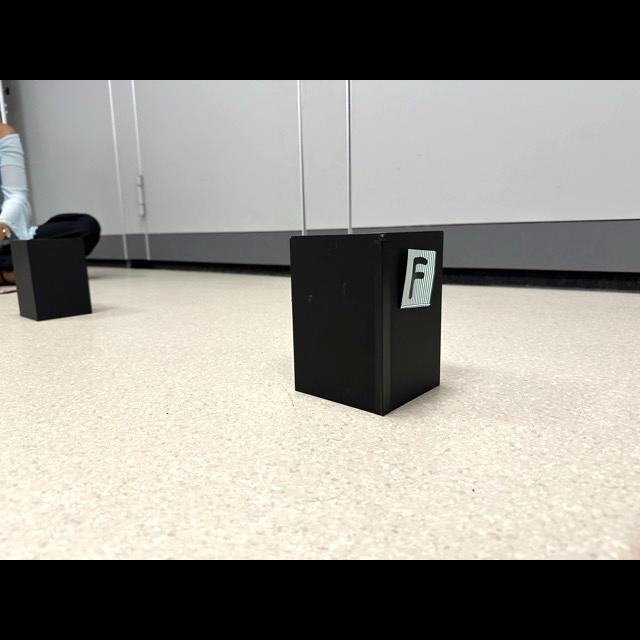F: (409, 257, 429, 299)
